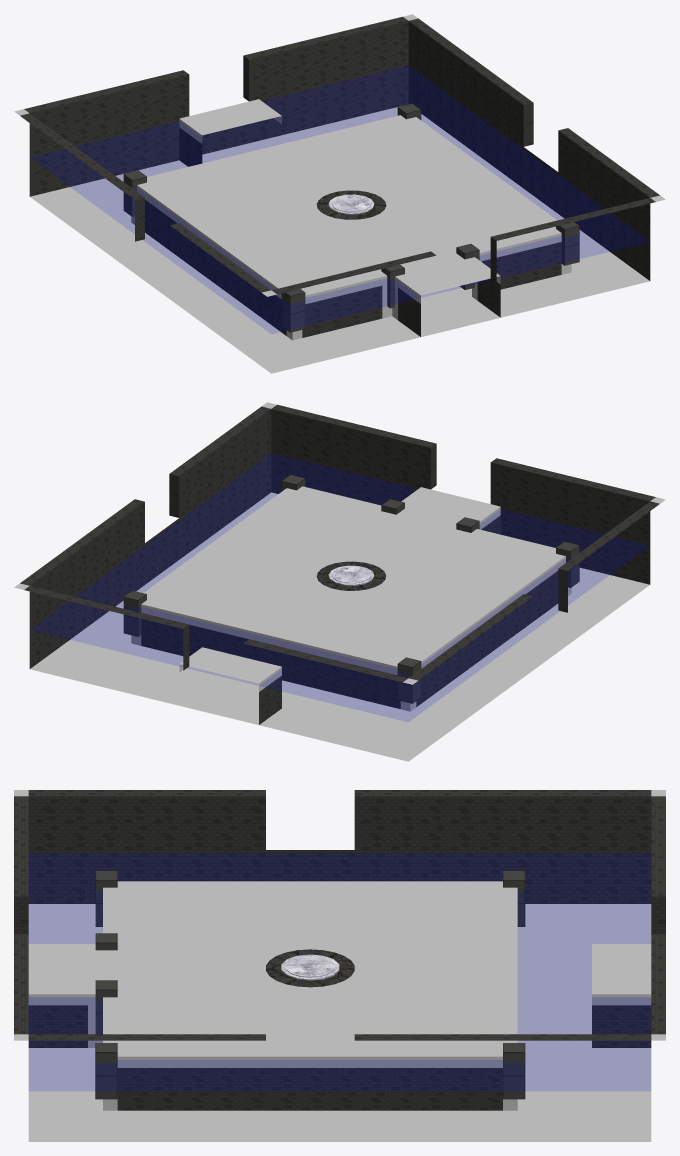
File: StartRoom.fbx
The picture shows the model from 3 angles, top to bottom: view 1: azimuth 30°, elevation 25°; view 2: azimuth 150°, elevation 25°; view 3: azimuth 270°, elevation 25°; orthographic projection. The views are drawn at different scales.
Visible parts, largest first — view 1: StartRoom_Floor, Wall.010, Water, Base, Floor.009, Manhole_Brick, Manhole; view 2: StartRoom_Floor, Wall.010, Water, Base, Floor.009, Manhole_Brick, Manhole; view 3: StartRoom_Floor, Wall.010, Water, Base, Floor.009, Manhole_Brick, Manhole.
Part boxes in pixels (<box>): StartRoom_Floor: <box>123,103,579,340</box>; Wall.010: <box>14,14,665,296</box>; Water: <box>31,65,648,333</box>; Base: <box>30,106,649,373</box>; Floor.009: <box>179,99,281,166</box>; Manhole_Brick: <box>316,190,386,219</box>; Manhole: <box>328,194,374,214</box>; StartRoom_Floor: <box>123,474,579,711</box>; Wall.010: <box>14,402,665,684</box>; Water: <box>31,453,648,721</box>; Base: <box>30,492,649,761</box>; Floor.009: <box>179,647,281,724</box>; Manhole_Brick: <box>316,561,386,590</box>; Manhole: <box>328,565,374,585</box>; StartRoom_Floor: <box>28,870,525,1110</box>; Wall.010: <box>14,790,665,1040</box>; Water: <box>29,854,650,1090</box>; Base: <box>28,904,651,1141</box>; Floor.009: <box>592,944,651,1047</box>; Manhole_Brick: <box>266,949,354,987</box>; Manhole: <box>281,954,339,980</box>.
Bounding box in the file's own units: 40 × 8 × 44.
